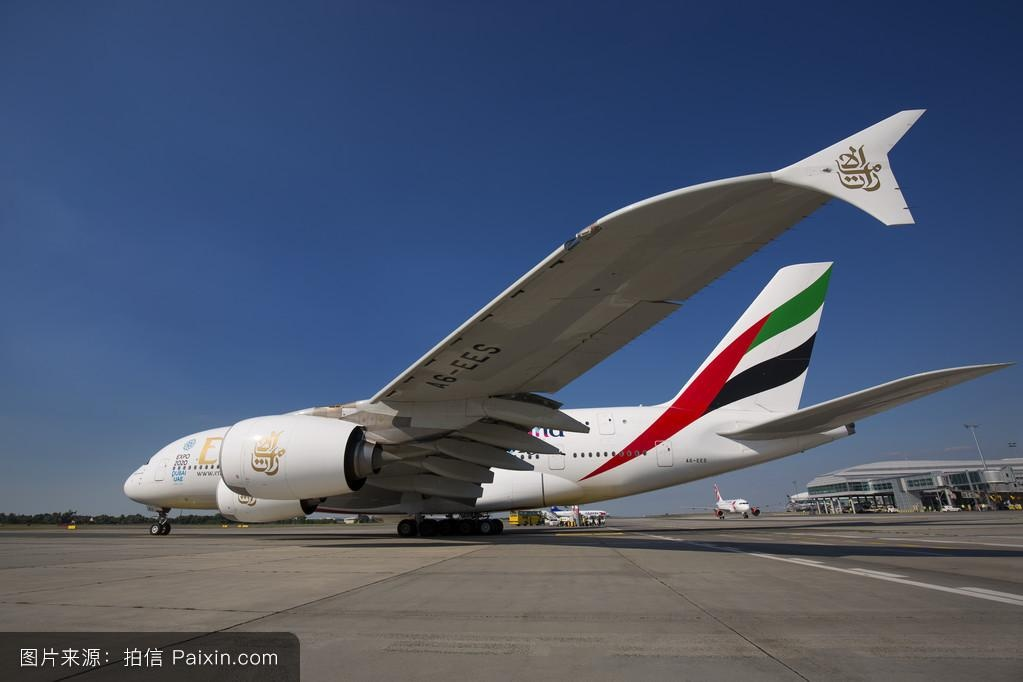airplane: (122, 103, 1019, 541)
